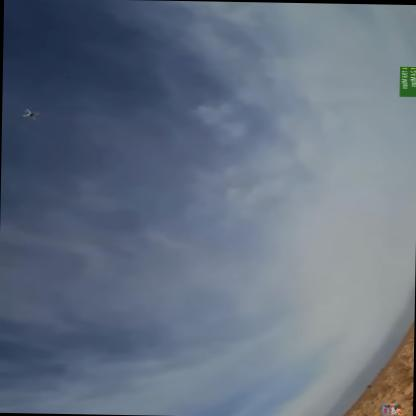drone: (17, 105, 41, 120)
